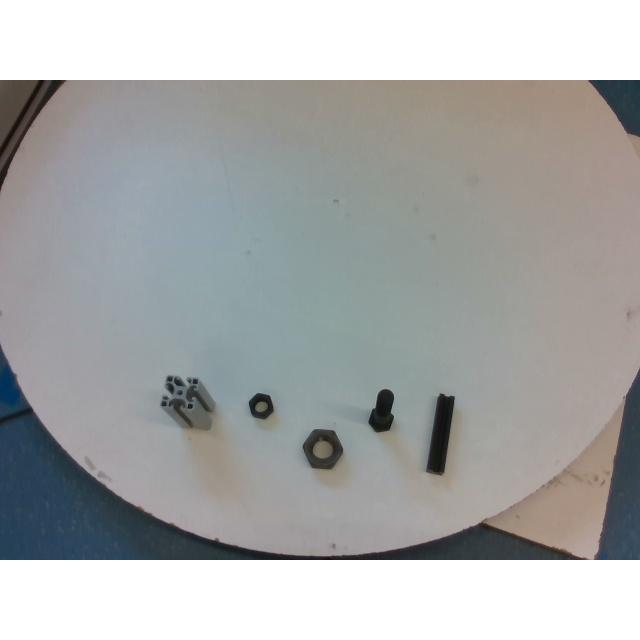F20_20_B: (426, 394, 454, 474)
M20: (249, 393, 273, 419)
M20_100: (369, 389, 393, 431)
M30: (303, 428, 342, 468)
S40_40_G: (162, 375, 214, 429)
